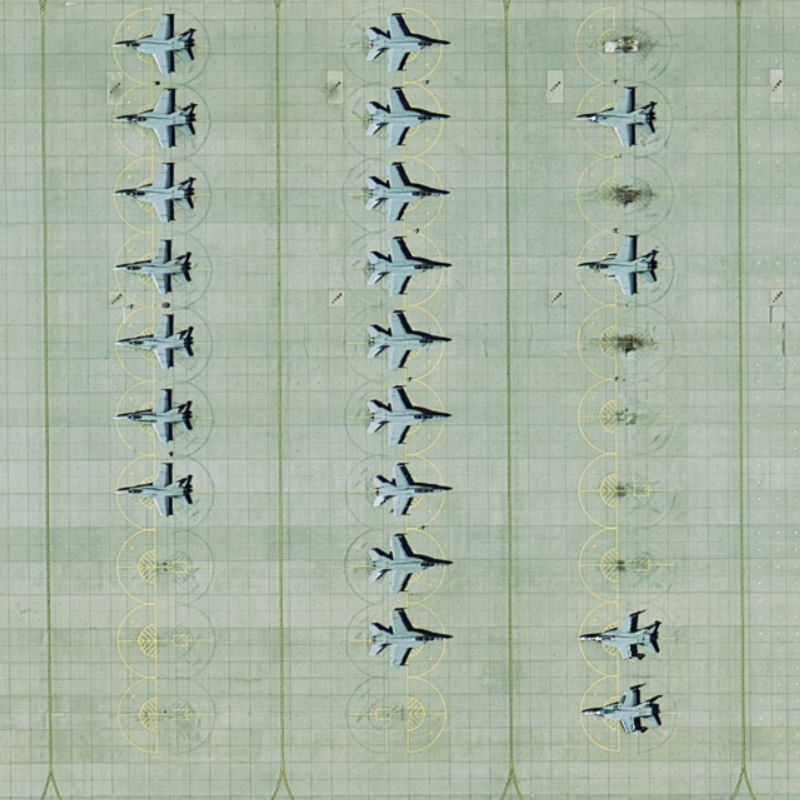A16: (363, 231, 456, 300), (108, 9, 200, 78), (359, 158, 453, 225), (362, 308, 454, 375), (361, 383, 454, 449), (109, 85, 203, 150), (107, 160, 198, 226), (570, 83, 658, 151), (363, 84, 452, 151), (364, 529, 453, 596), (575, 231, 660, 300), (365, 605, 455, 670), (363, 11, 452, 74), (110, 311, 197, 372), (109, 459, 194, 521), (369, 460, 453, 521), (110, 236, 194, 296), (111, 387, 199, 444), (576, 683, 663, 737), (575, 610, 662, 663)
